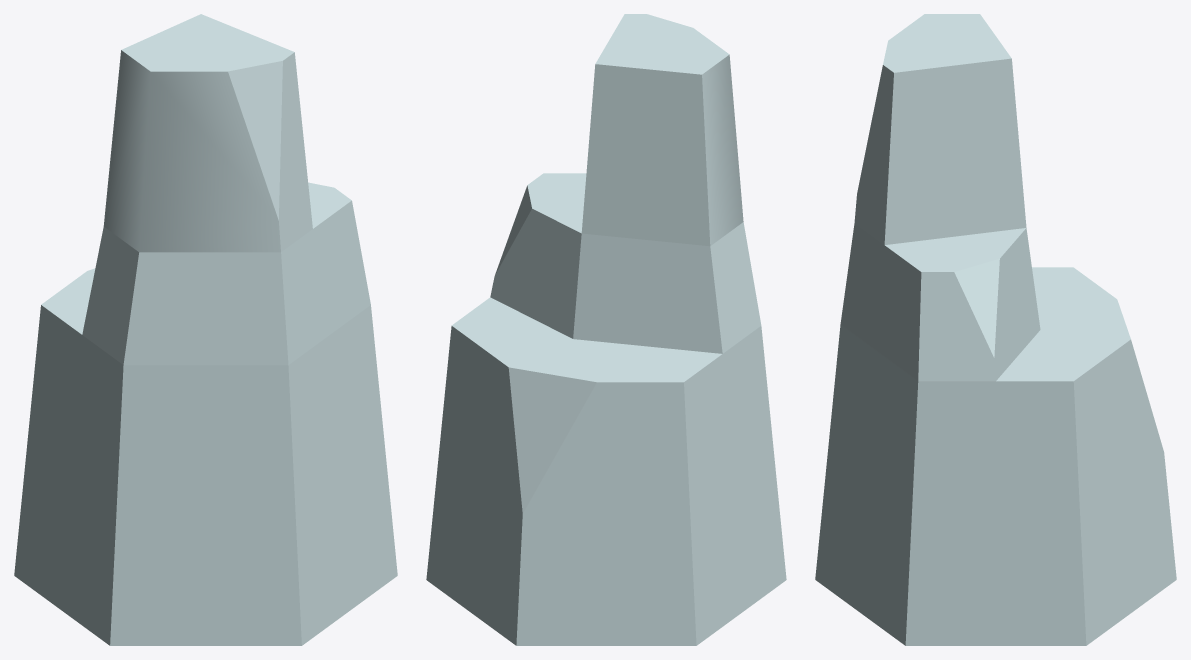
The model's file is stone_tallG.glb.
The picture shows the model from 3 angles, left to right: view 1: azimuth 30°, elevation 25°; view 2: azimuth 150°, elevation 25°; view 3: azimuth 270°, elevation 25°; orthographic projection. The views are drawn at different scales.
Visible parts, largest first — view 1: stone_tallG; view 2: stone_tallG; view 3: stone_tallG.
Part boxes in pixels (box(x1,y1,x2,y2)): stone_tallG: box(14, 14, 397, 645); stone_tallG: box(426, 14, 786, 645); stone_tallG: box(815, 14, 1176, 645).
Bounding box in the file's own units: 0.4249 × 0.7829 × 0.4907.
Materials: 1 (1 with a texture image).
